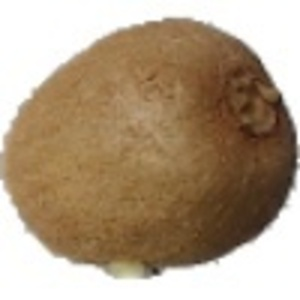kiwi: (1, 15, 300, 282)
